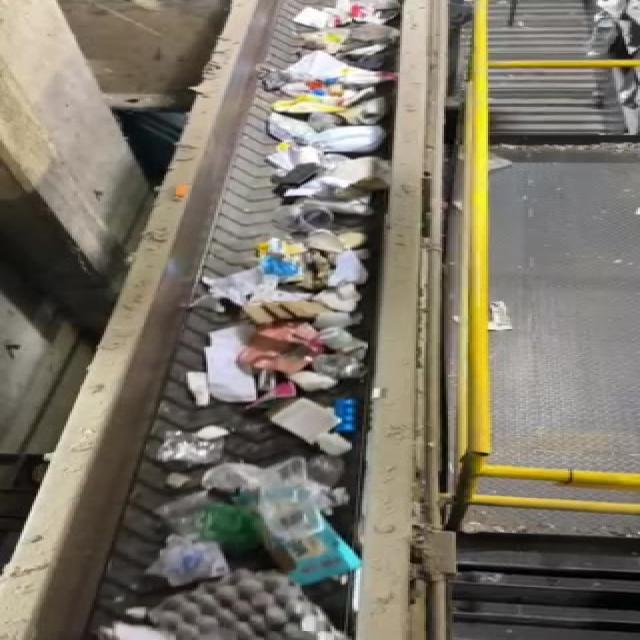paper: (275, 399, 345, 458)
pp: (238, 461, 378, 586), (145, 532, 236, 588), (145, 423, 245, 472), (337, 393, 375, 437)
